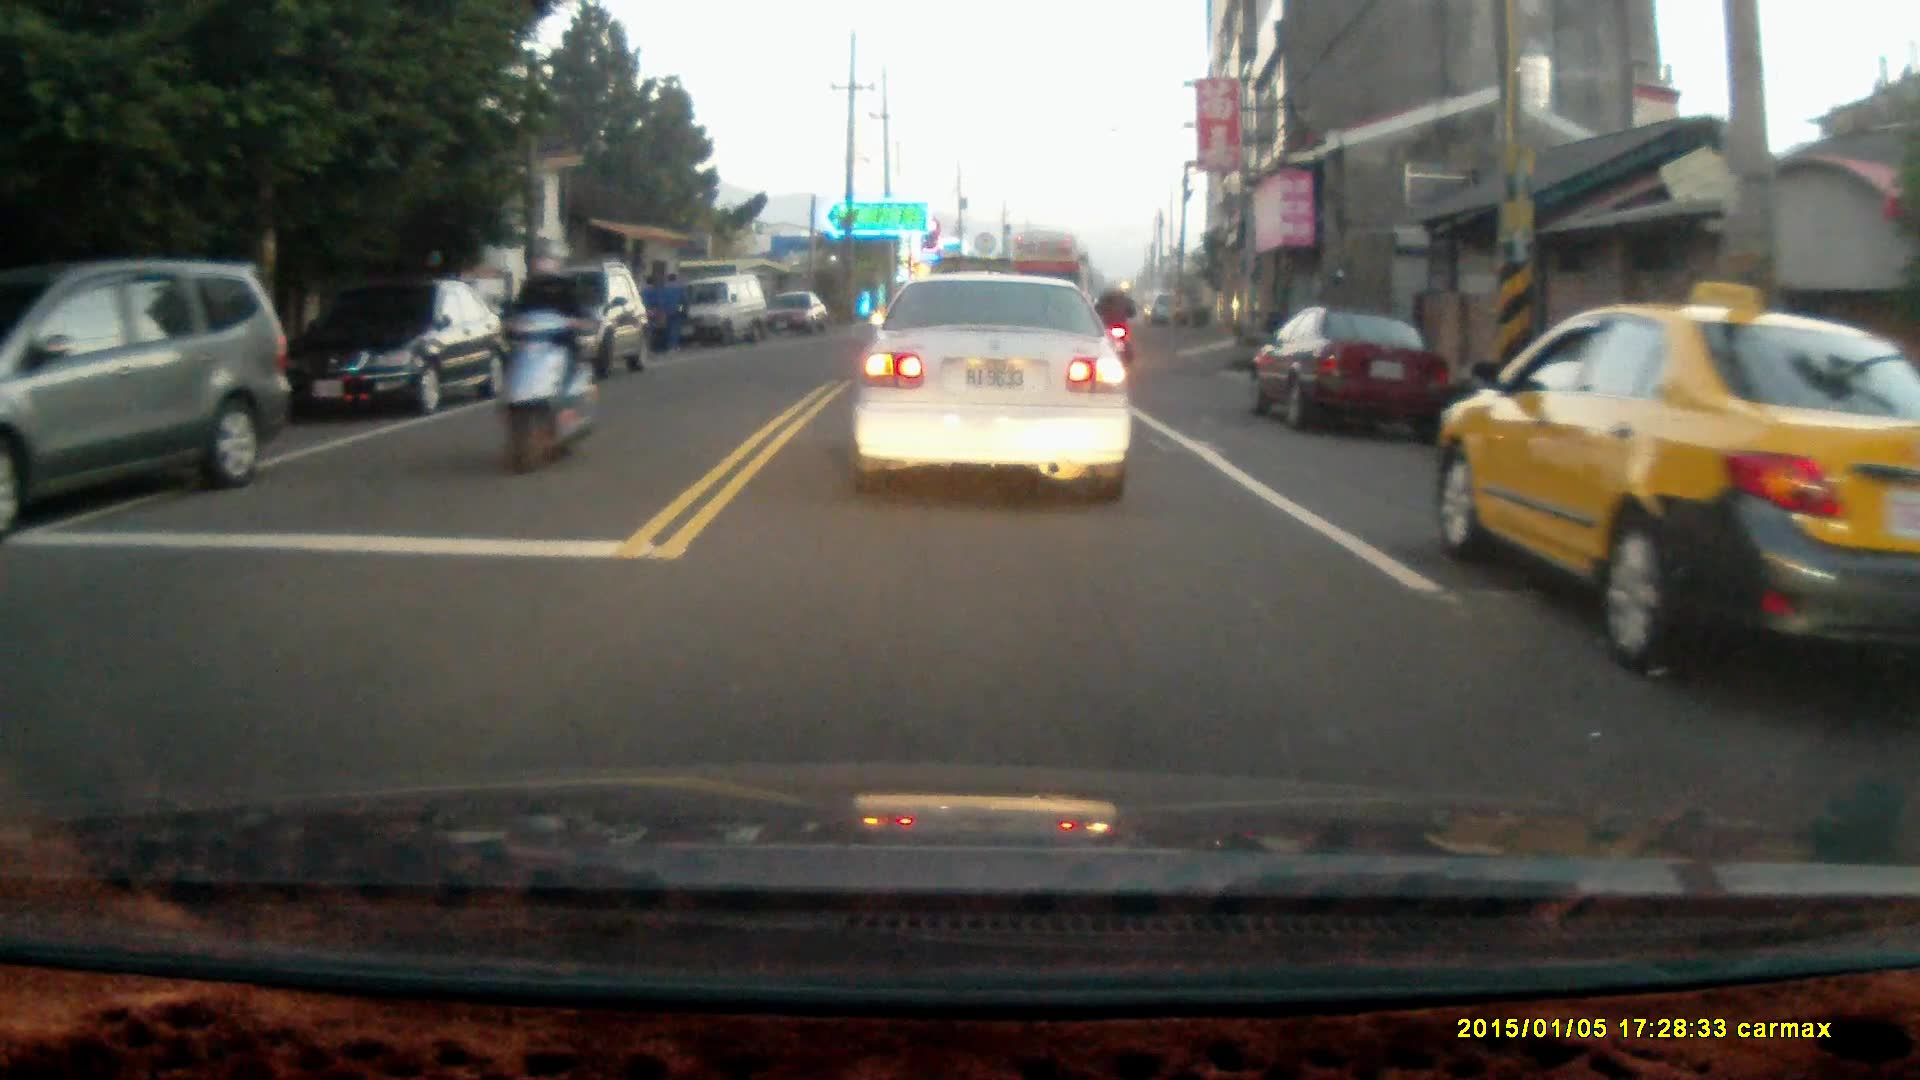pedestrian: (657, 269, 684, 353), (636, 270, 662, 350)
rider: (489, 235, 605, 476), (1084, 278, 1134, 385)
vehicle: (1433, 302, 1920, 681), (1, 261, 296, 526), (852, 275, 1130, 508), (282, 278, 524, 417), (1250, 305, 1453, 433), (492, 261, 656, 385), (664, 277, 768, 350), (751, 292, 830, 344)
